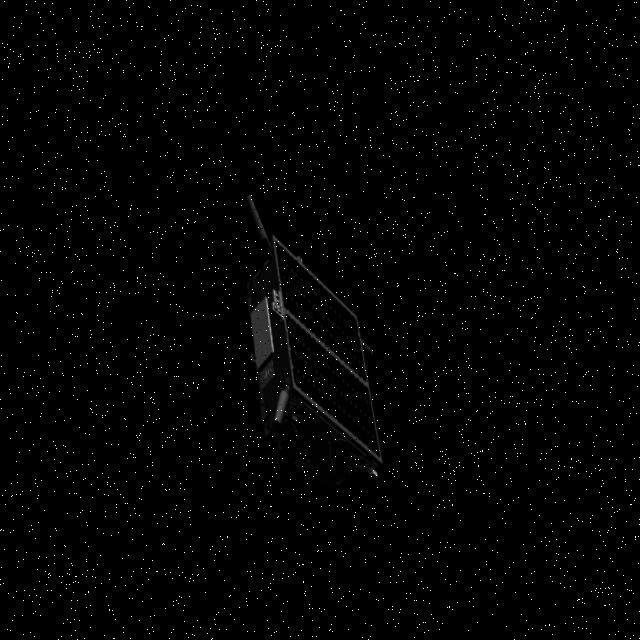medium_debris: (232, 186, 404, 470)
